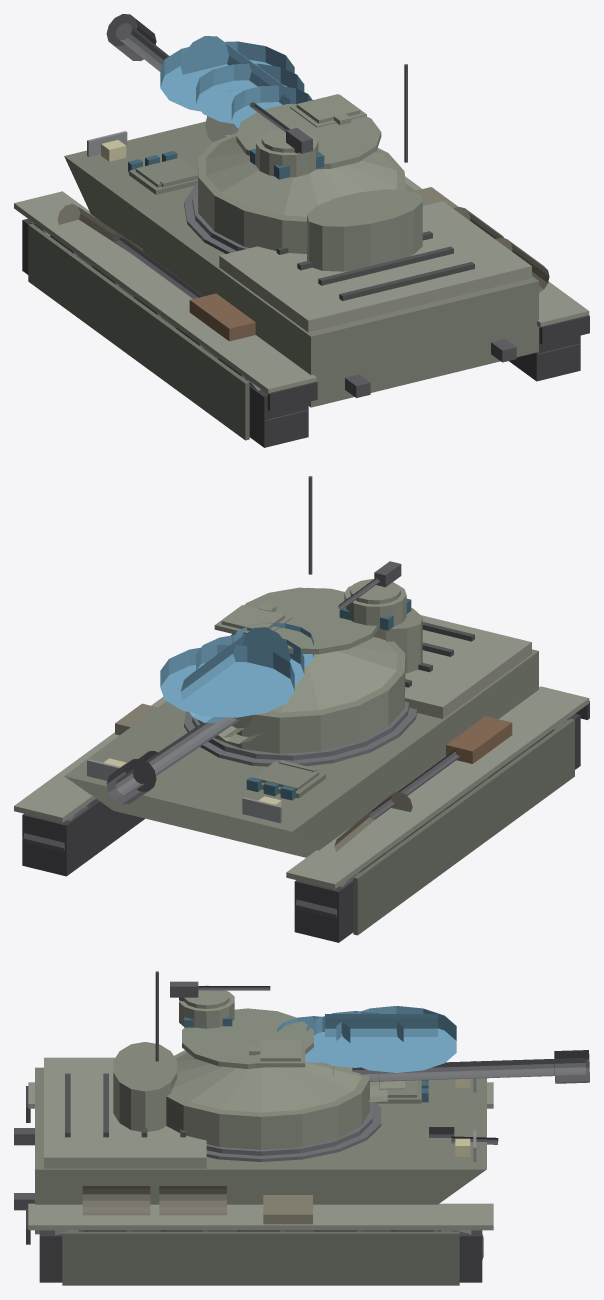
Rendered from soviet_electro.glb.
3 views of the same model, one above another, from view 1: azimuth 30°, elevation 25°; view 2: azimuth 150°, elevation 25°; view 3: azimuth 270°, elevation 25° (orthographic). The views are drawn at different scales.
Visible parts, largest first — view 1: hull, turret, engine_deck, skirt_l, fender_l, track_l, coil.001, coil.002, grille, emitter, track_r, cupola (+15 smaller); view 2: hull, turret, skirt_l, fender_l, coil.002, engine_deck, track_r, turret_ring, track_l, fender_r, emitter, cupola (+12 smaller); view 3: turret, hull, skirt_r, engine_deck, fender_r, coil.002, barrel, track_r, turret_ring, emitter, fuel_drum1, fuel_drum2 (+12 smaller).
Boxes of the visible parts, x1,y1,x2,y2 form: hull: (64,121,538,407); turret: (198,103,422,271); engine_deck: (219,201,531,332); skirt_l: (28,223,249,440); fender_l: (14,191,316,394); track_l: (22,219,308,447); coil.001: (196,63,304,123); coil.002: (160,41,294,114); grille: (276,231,474,300); emitter: (180,36,290,104); track_r: (509,327,580,381); cupola: (256,127,318,177); hull: (64,649,538,857); turret: (198,587,422,753); skirt_l: (353,718,574,935); fender_l: (286,686,589,889); coil.002: (160,645,294,717); engine_deck: (308,587,531,718); track_r: (22,800,144,876); turret_ring: (184,701,416,766); track_l: (294,713,580,942); fender_r: (14,696,166,822); emitter: (180,627,290,723); cupola: (344,579,406,629); turret: (113,1008,369,1149); hull: (35,1067,486,1234); skirt_r: (62,1231,459,1285); engine_deck: (44,1057,206,1168); fender_r: (28,1203,493,1230); coil.002: (336,1006,456,1072); barrel: (352,1058,586,1081); track_r: (39,1230,482,1282); turret_ring: (206,1102,381,1161); emitter: (325,1014,437,1064); fuel_drum1: (82,1186,150,1215); fuel_drum2: (159,1186,226,1215).
Size of the model in its own units: 4.62 by 3.83 by 7.65.
